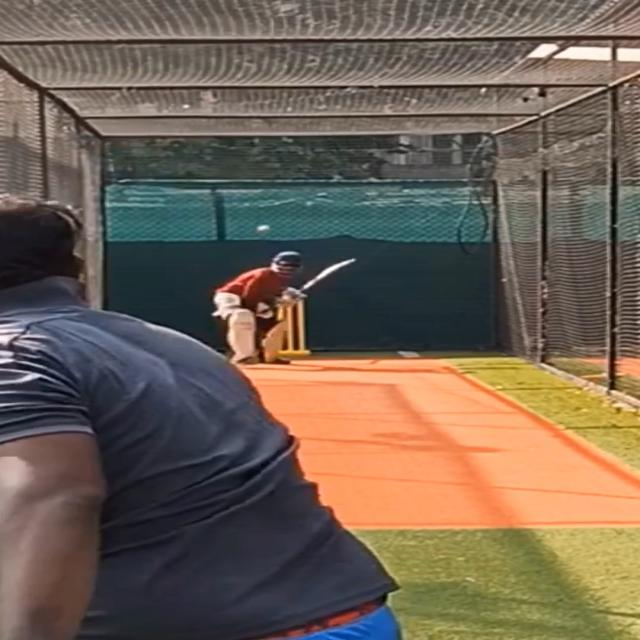ball: (253, 222, 274, 235)
stump: (276, 298, 310, 357)
